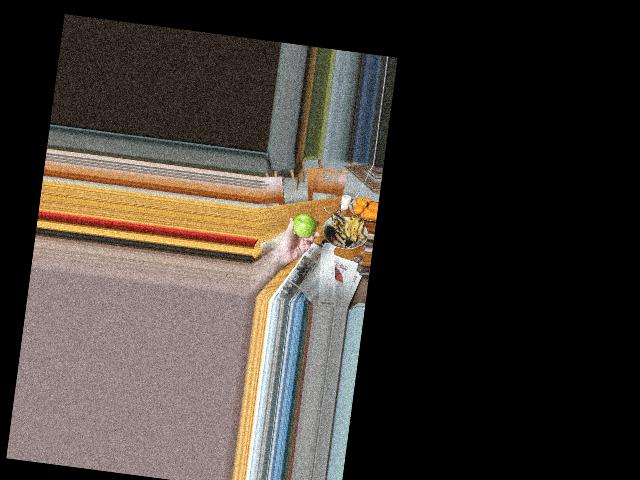apple: (290, 210, 319, 240)
